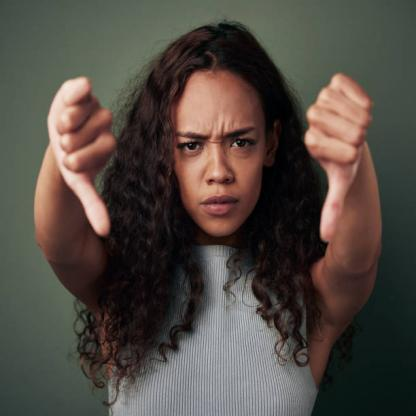thumb_down: (300, 67, 376, 246), (45, 74, 123, 238)
